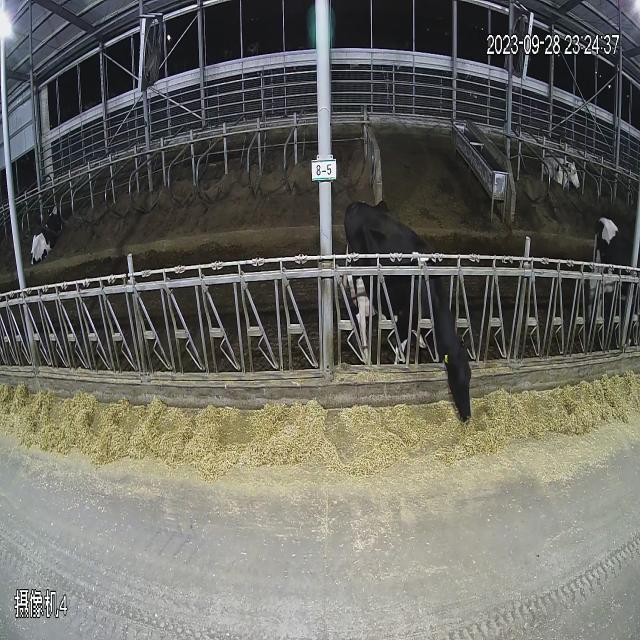feeding: (315, 178, 497, 436)
lying down: (19, 184, 95, 271), (532, 131, 587, 215)
